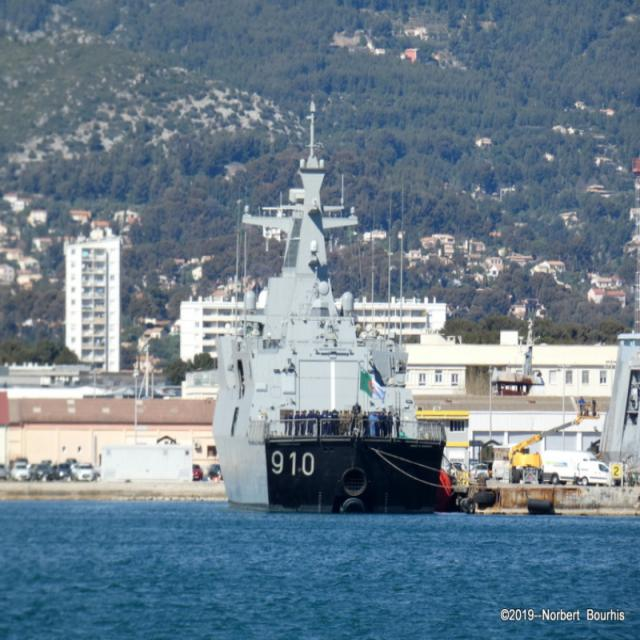Fragata: (214, 96, 446, 516)
